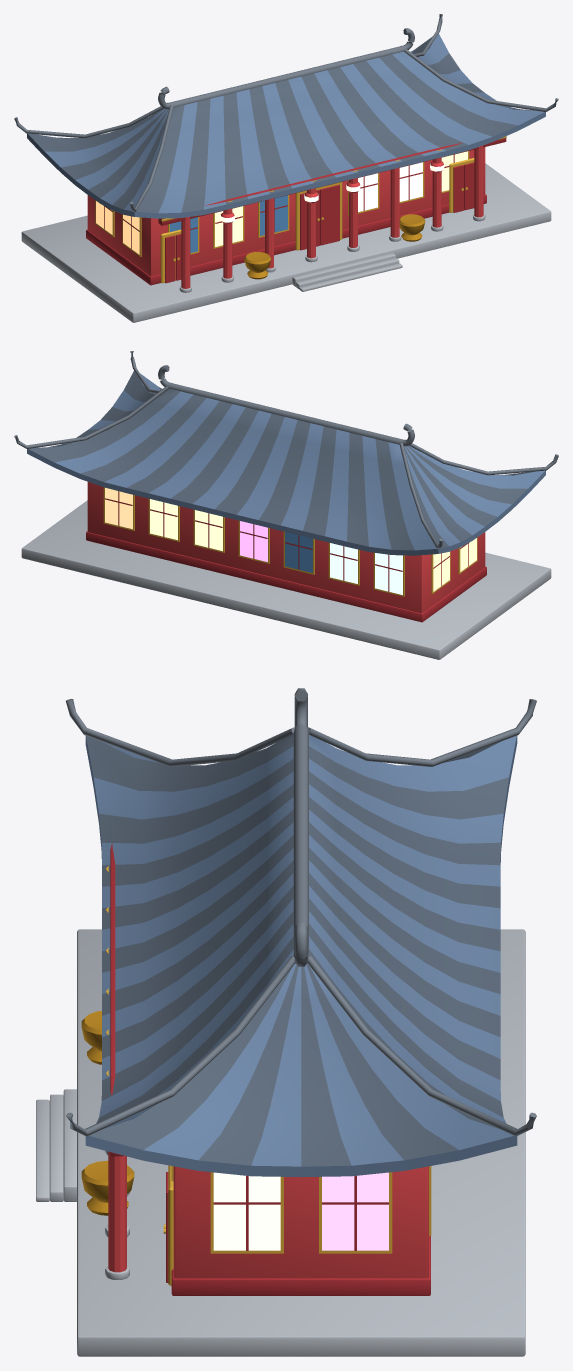
File: templo_comprido_cinza.glb
3 views of the same model, one above another, from view 1: azimuth 30°, elevation 25°; view 2: azimuth 150°, elevation 25°; view 3: azimuth 270°, elevation 25° (orthographic). The views are drawn at different scales.
Visible parts, largest first — view 1: templo_comprido_cinza; view 2: templo_comprido_cinza; view 3: templo_comprido_cinza.
Boxes of the visible parts, x1,y1,x2,y2 form: templo_comprido_cinza: (14,14,558,322); templo_comprido_cinza: (14,351,558,659); templo_comprido_cinza: (36,688,536,1356).
Bounding box in the file's own units: 25.56 × 9.89 × 12.95.
Materials: 8 (2 with a texture image).
